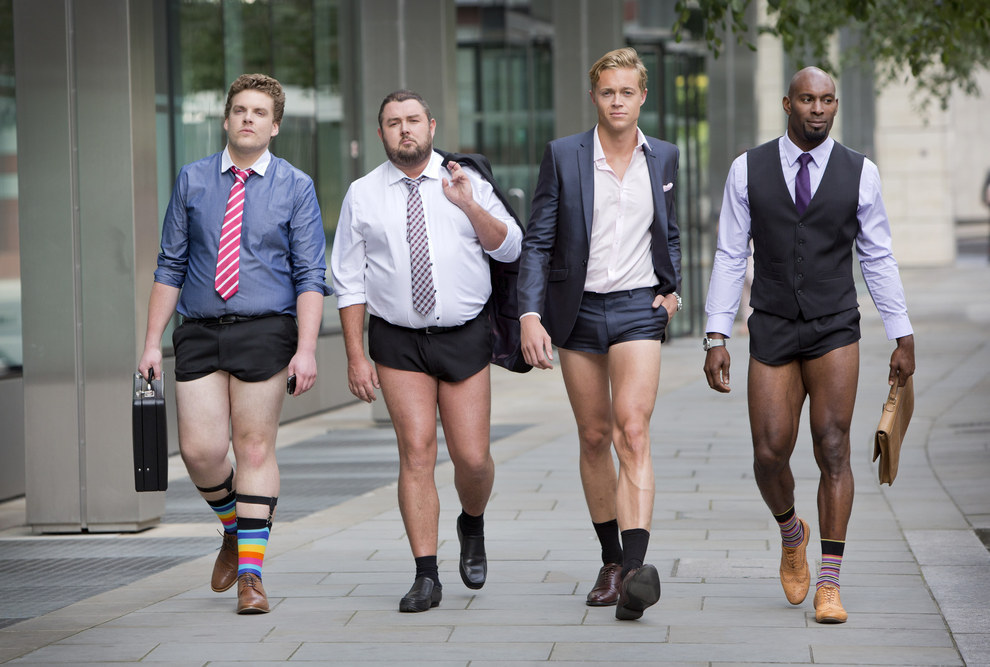Person: (700, 65, 915, 622), (141, 74, 334, 613), (333, 88, 523, 613), (518, 46, 682, 621)
